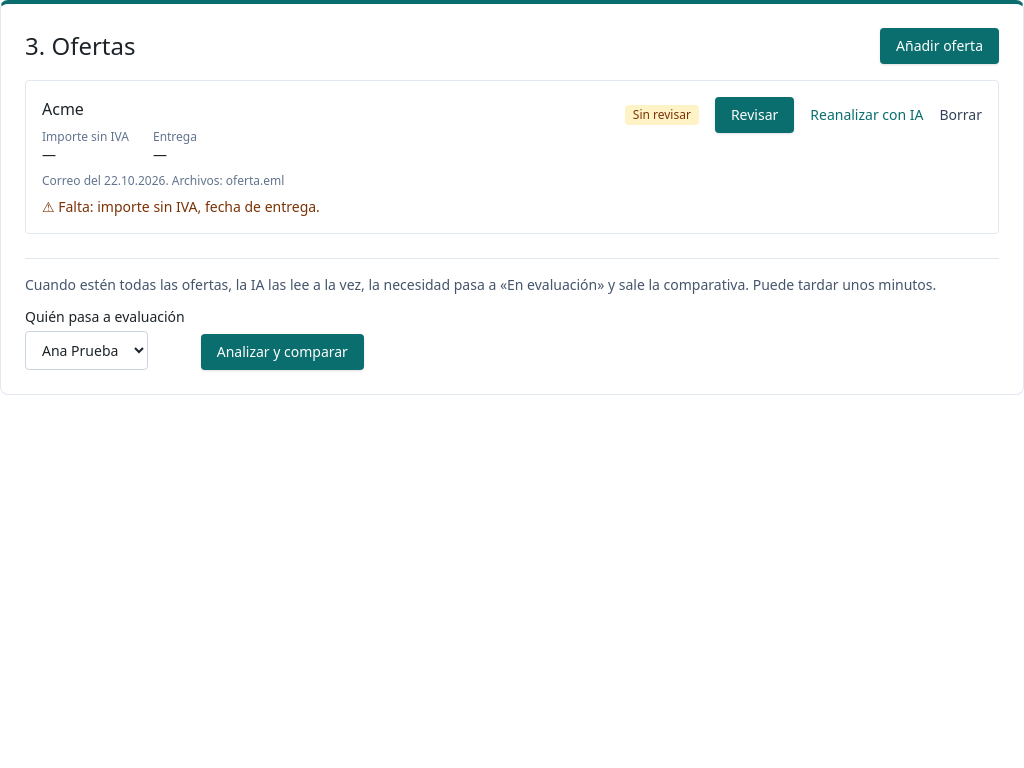
it: SeccionOfertas › el plazo de cada línea se ve y se guarda con ella (CU-004)
Later steps or results of the test are not shown.
Click the button with aria-label "Revisar la oferta de Acme" at {"x": 755, "y": 115}, box [715,97,794,133]
(page scrolled)
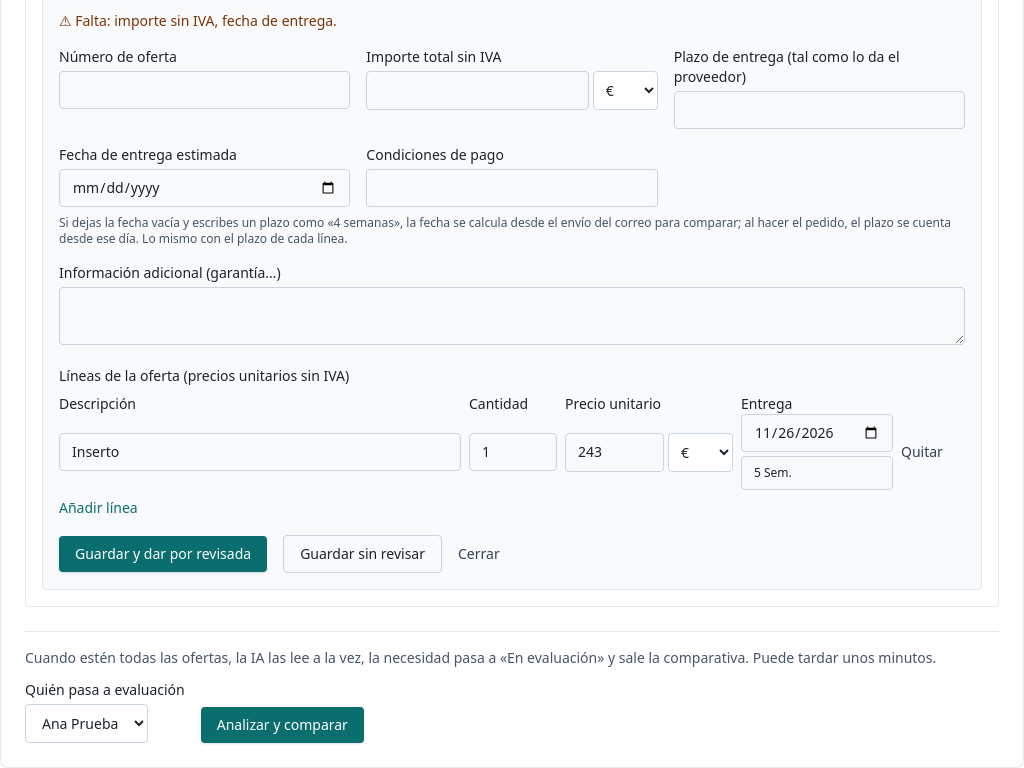
Check: the date field named "Entrega de la línea 1" holds "2026-11-26", box [741,414,893,452]
Check: the field named "Plazo de la línea 1" holds "5 Sem.", box [741,456,893,490]
